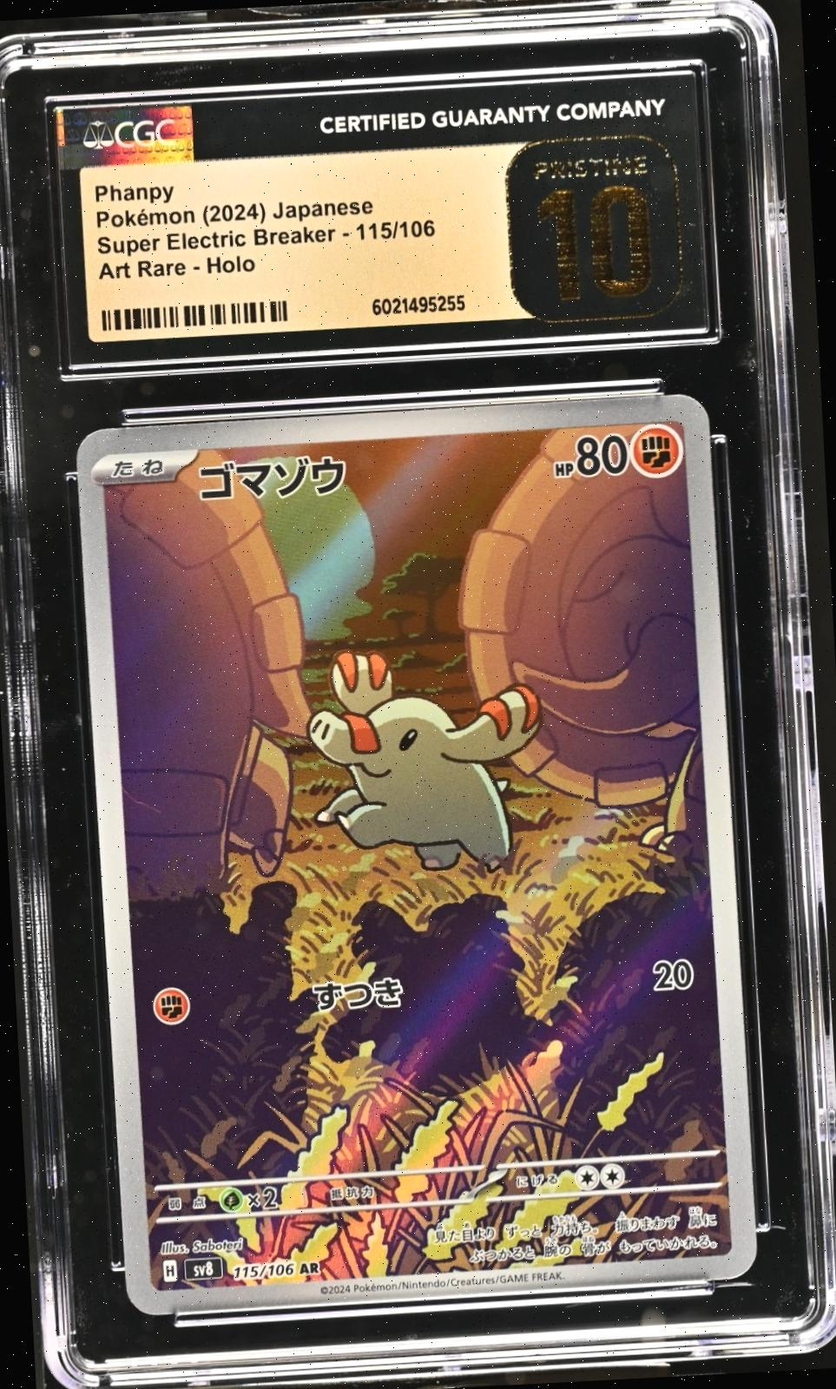card-2UtV: (75, 394, 757, 1316)
